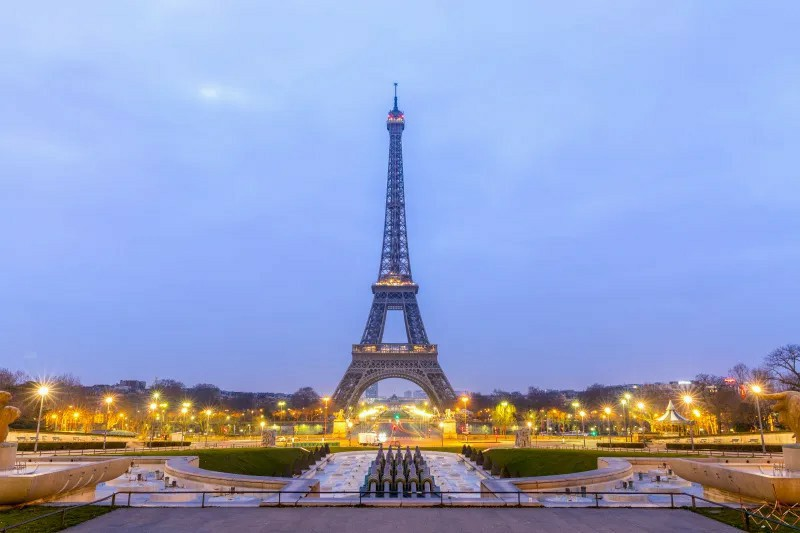Eiffel: (326, 83, 456, 415)
